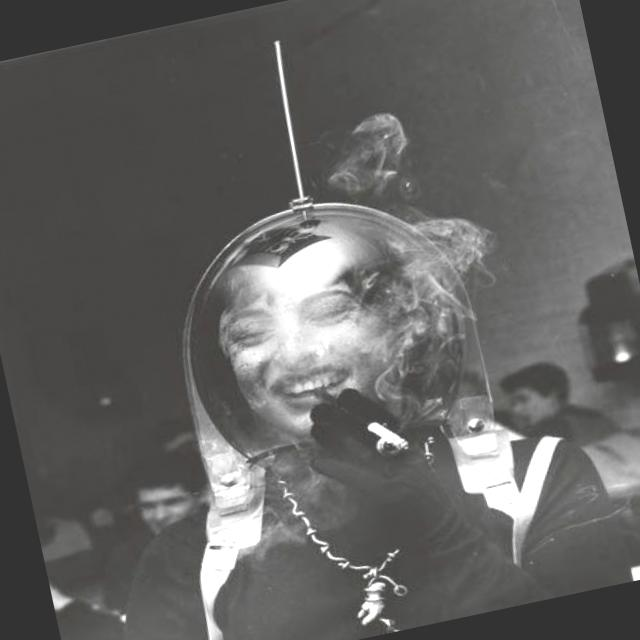cigarette: (356, 400, 432, 470)
